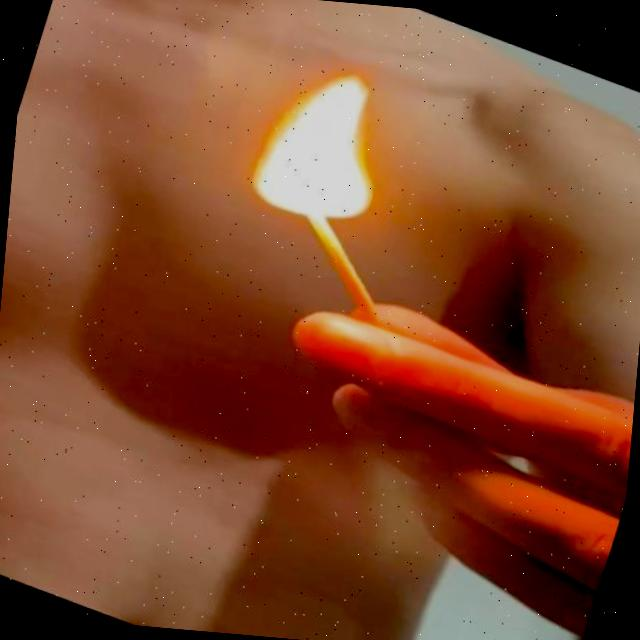fire: (230, 30, 413, 242)
